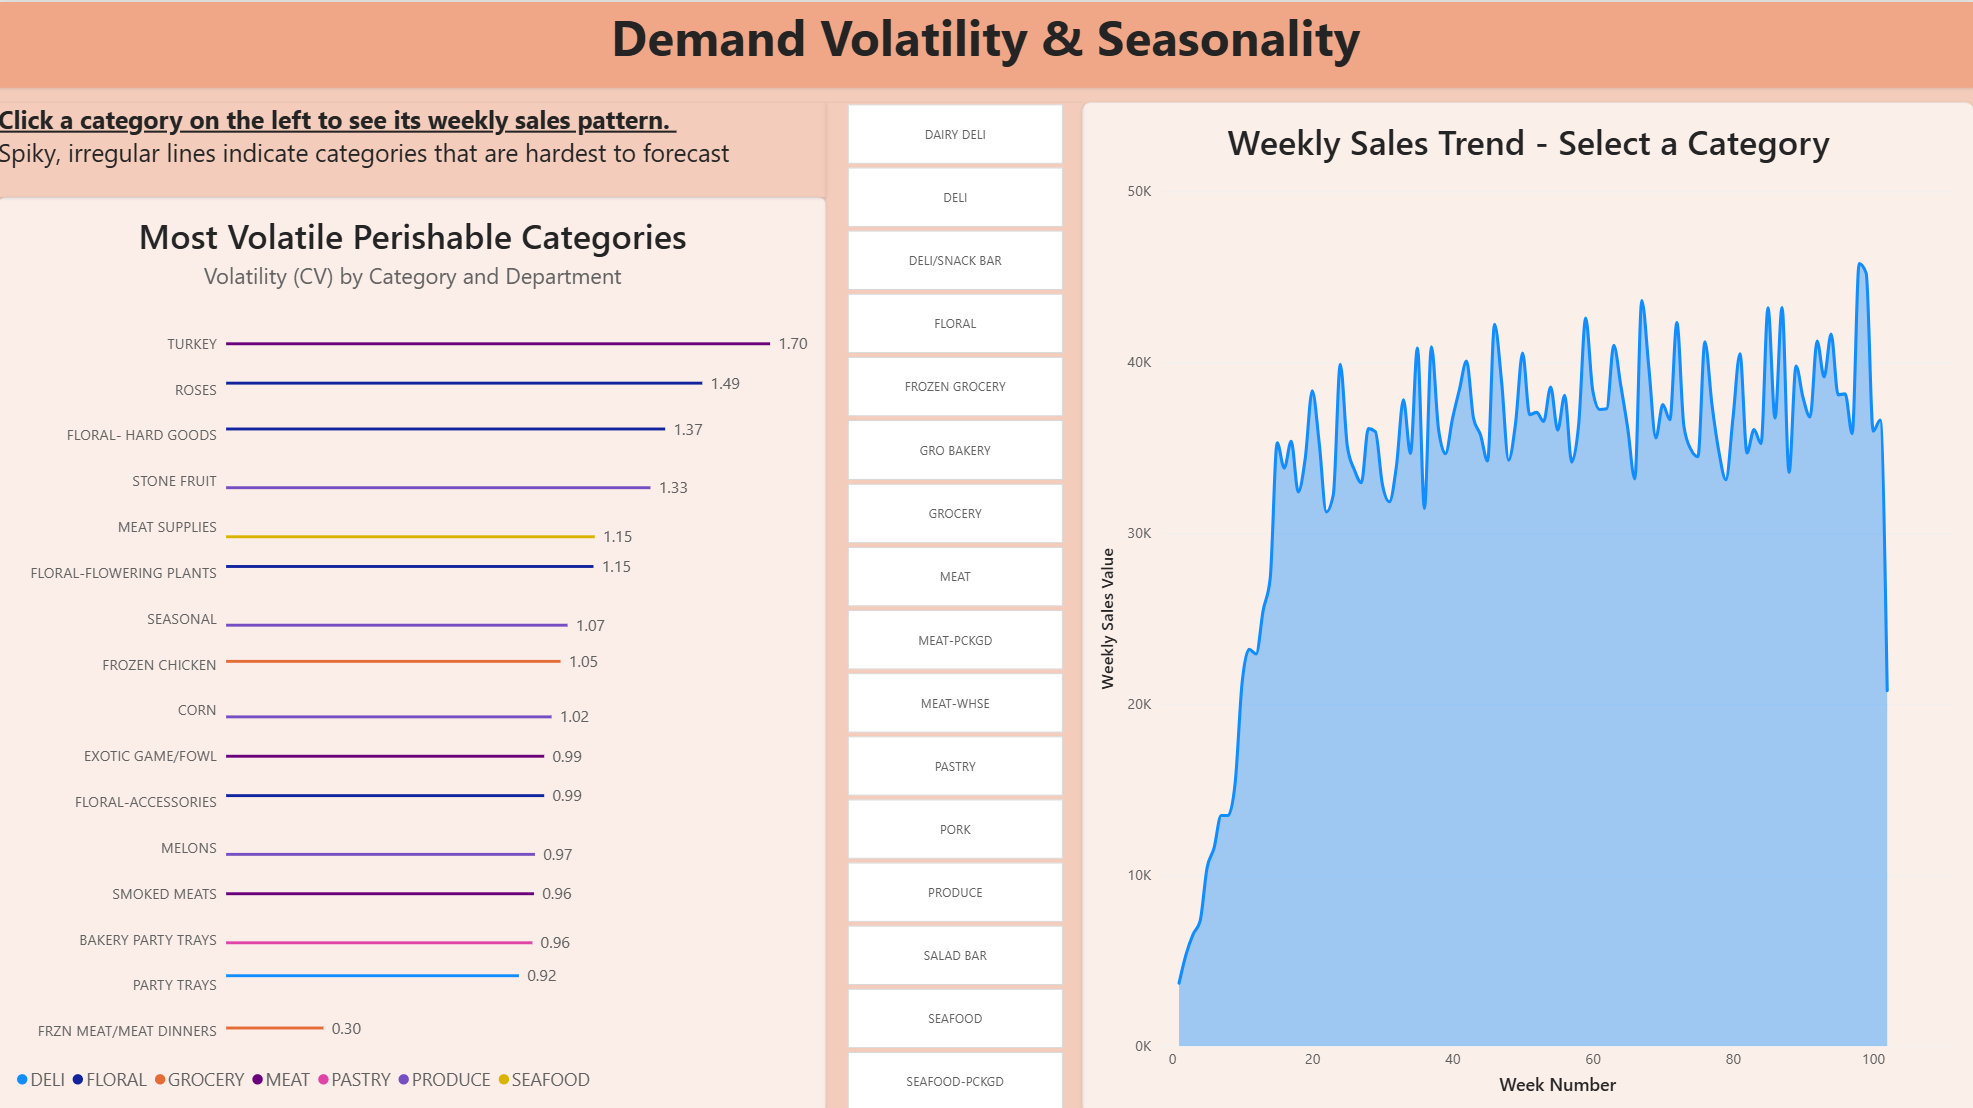

Layout of this report page (visuals, bound fields, positions):
{"tool":"powerbi","page":{"name":"Volatility & Seasonality","canvas":[1920,1080],"ordinal":2},"visuals":[{"type":"clusteredBarChart","title":"Most Volatile Perishable Categories","fields":{"Category":["priority_ranking.commodity_desc"],"Series":["priority_ranking.department"],"Y":["Sum(priority_ranking.coefficient_of_variation)"]},"box":[0,189.5,804.5,890.5],"z":0},{"type":"lineChart","title":"Weekly Sales Trend - Select a Category","fields":{"Category":["weekly_timeseries.Week Number"],"Y":["Sum(weekly_timeseries.Weekly Sales Value)"]},"box":[1053.8,97.7,865.8,982.4],"z":1000},{"type":"textbox","box":[0,97.7,804.5,91.8],"z":2000},{"type":"slicer","fields":{"Values":["weekly_timeseries.department"]},"box":[804.5,97.7,249.2,982.4],"z":3000},{"type":"textbox","box":[0,0,1919.5,83.1],"z":4000}]}

Visuals, with their boxes in screenshot pixels (x1, y1, x2, y2), scaled from the page's 1920x1080 canvas onto the 1973x1108 screenshot:
"Most Volatile Perishable Categories" clusteredBarChart: <bbox>0, 194, 827, 1107</bbox>
"Weekly Sales Trend - Select a Category" lineChart: <bbox>1083, 100, 1972, 1107</bbox>
textbox: <bbox>0, 100, 827, 194</bbox>
slicer - weekly_timeseries.department: <bbox>827, 100, 1083, 1107</bbox>
textbox: <bbox>0, 0, 1972, 85</bbox>
